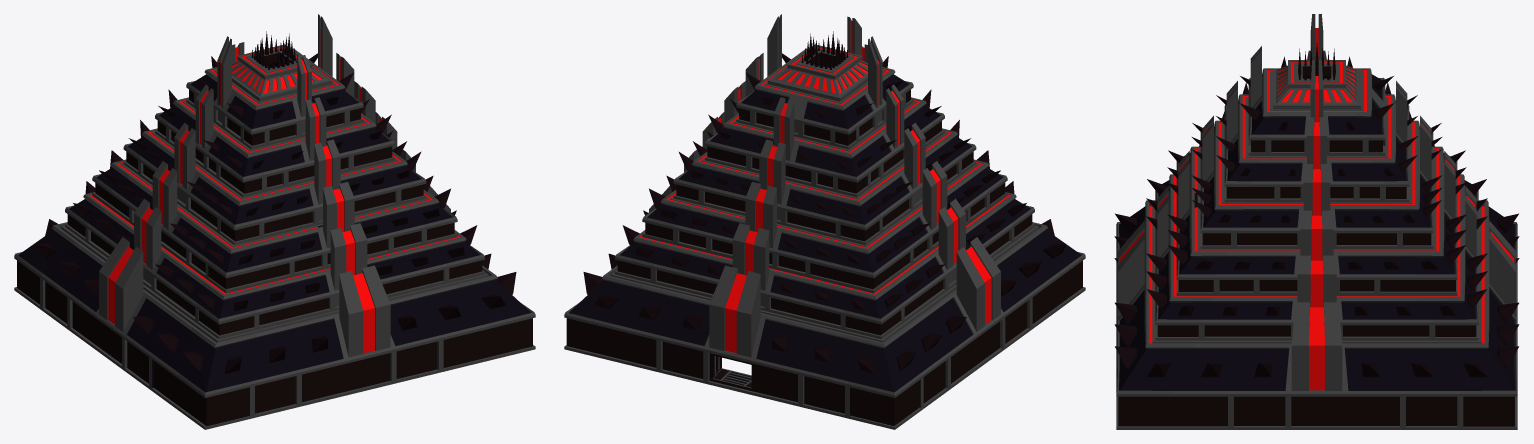
Rendered from BossTemple.fbx.
The picture shows the model from 3 angles, left to right: view 1: azimuth 30°, elevation 25°; view 2: azimuth 150°, elevation 25°; view 3: azimuth 270°, elevation 25°; orthographic projection. The views are drawn at different scales.
Parts seen in each view (by area): view 1: Box001; view 2: Box001; view 3: Box001.
Part boxes in pixels (bbox=[...]): Box001: bbox=[14, 14, 535, 429]; Box001: bbox=[564, 14, 1085, 429]; Box001: bbox=[1114, 14, 1519, 429].
Bounding box in the file's own units: 4040 × 3387 × 4040.
